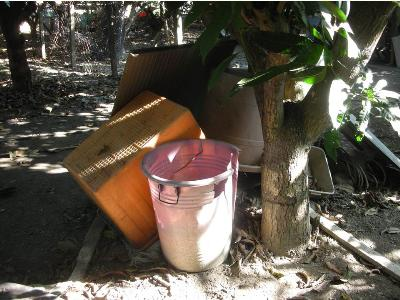box: (60, 89, 208, 253)
bucket: (141, 138, 242, 275), (203, 65, 288, 176)
